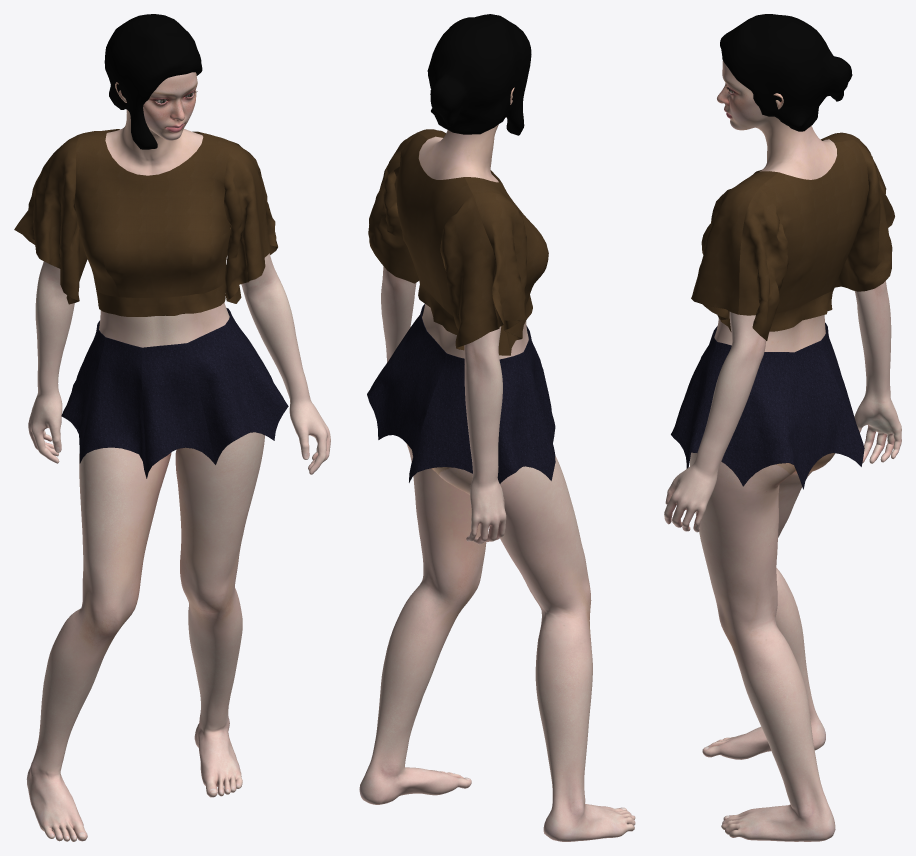
Rendered from random.obj.
3 renders of one model, left to right at view 1: azimuth 30°, elevation 25°; view 2: azimuth 150°, elevation 25°; view 3: azimuth 270°, elevation 25°, orthographic. The views are drawn at different scales.
Bounding box in the file's own units: 612 × 1724 × 471.
